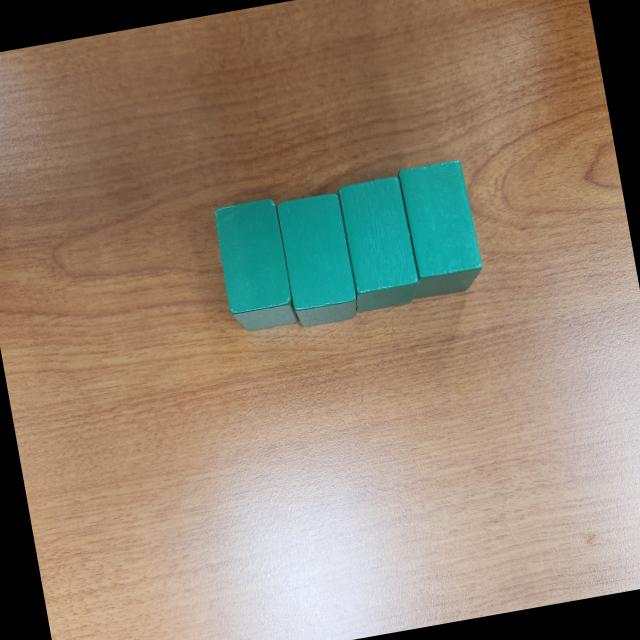green: (390, 159, 488, 302), (332, 172, 424, 315), (210, 196, 301, 339), (274, 189, 364, 332)
